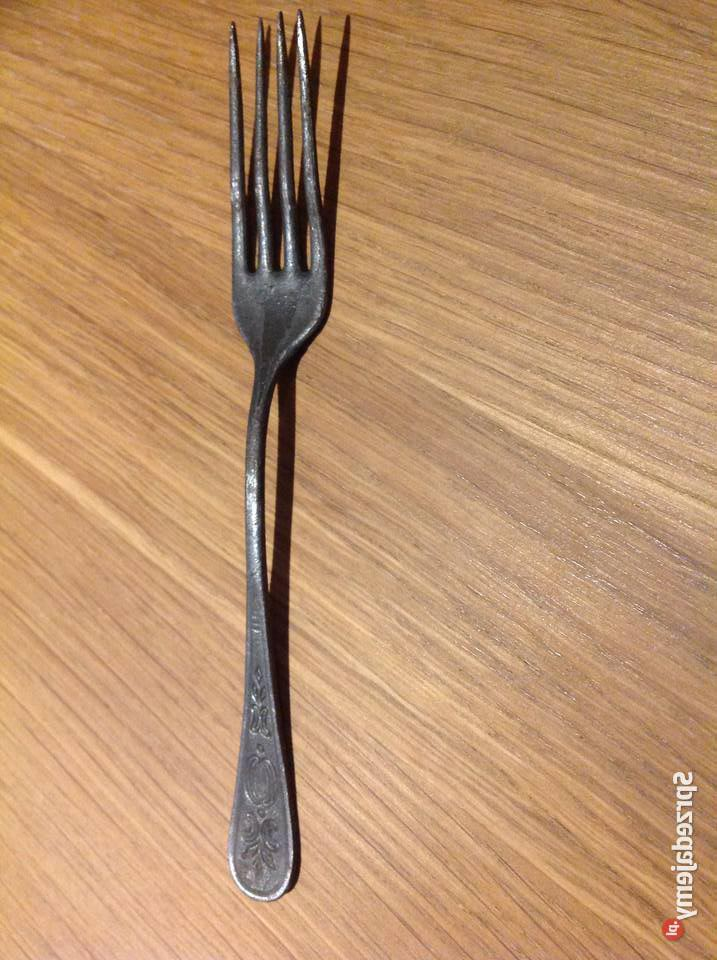Widelec: (214, 9, 354, 349)
